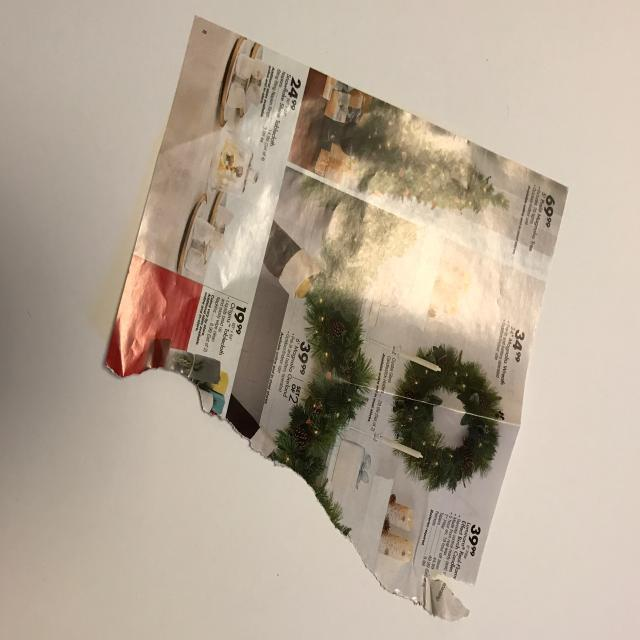paper: (100, 14, 570, 624)
